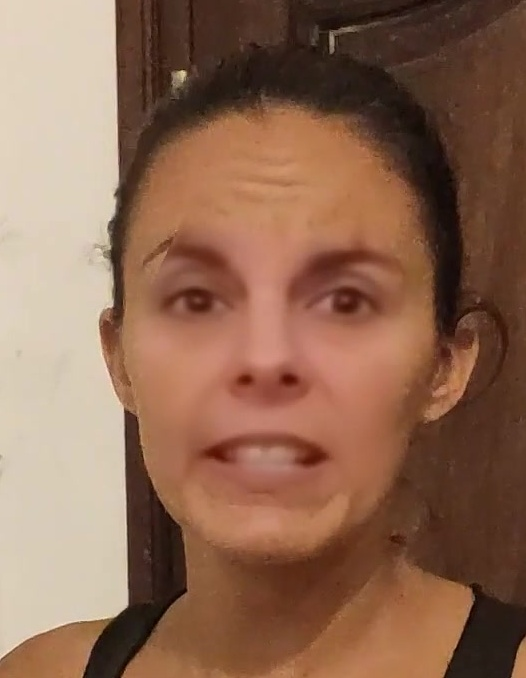eb_f: (133, 221, 413, 330)
